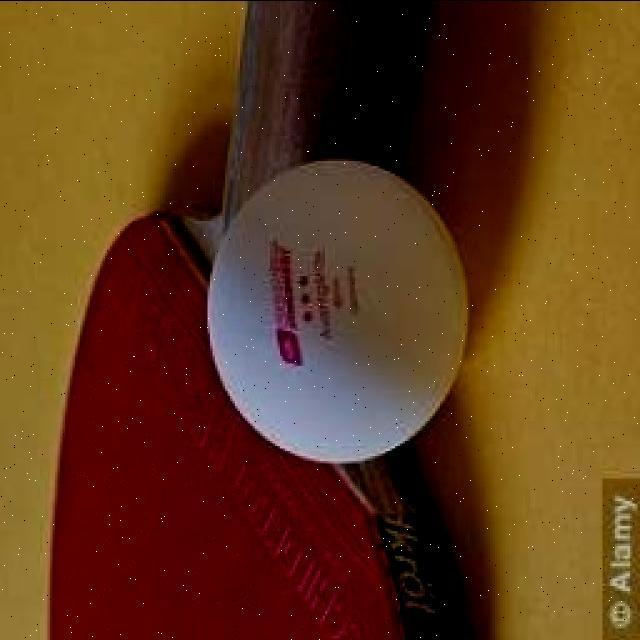ping-pong-ball: (206, 158, 469, 462)
